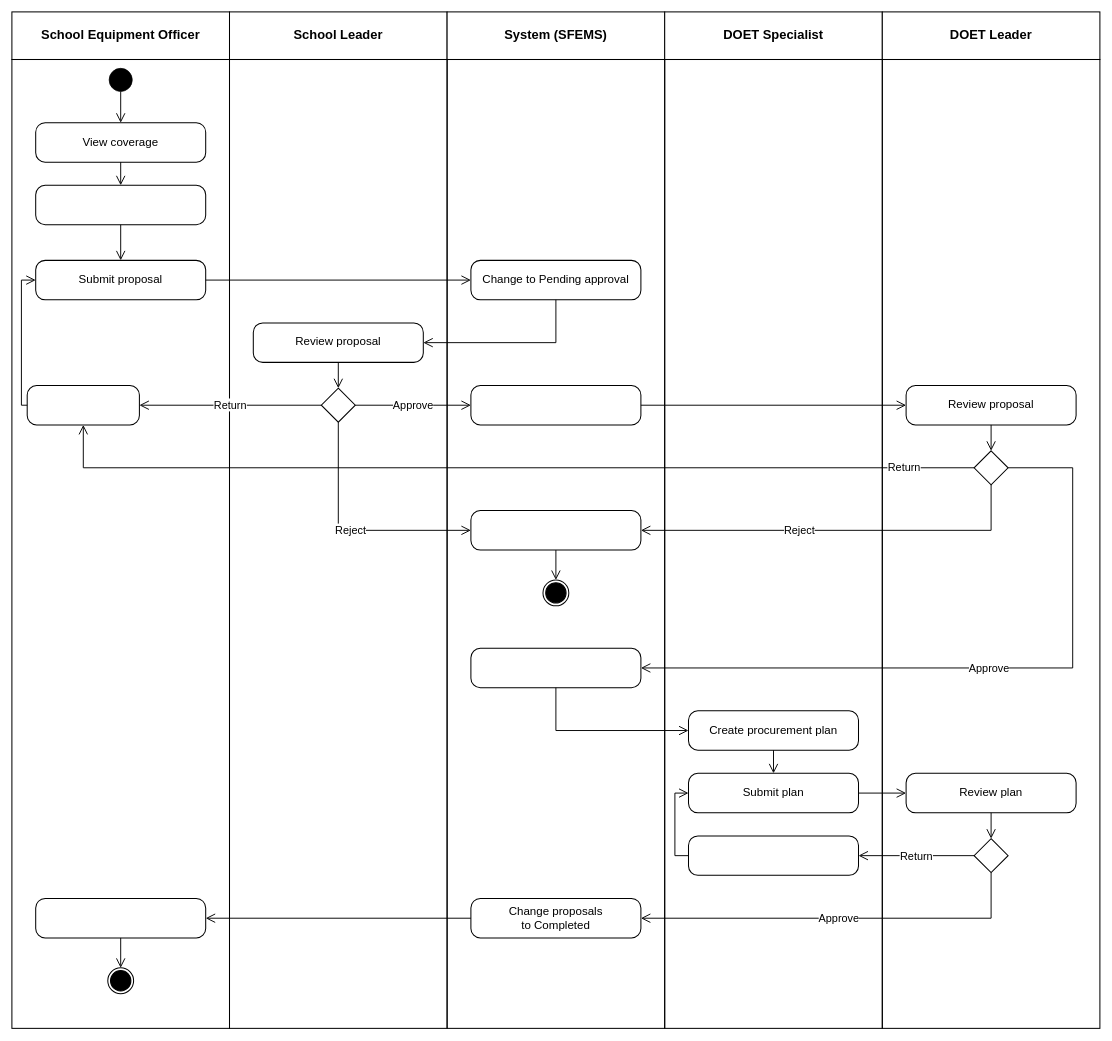
This 1112x1041 diagram has some shape labels left out. The centre of each missing label's shape, as x and y in pixels:
"Change to Approved" goes at (555,667).
"Change to Rejected" goes at (555,530).
"Create intake voucher (BF-02)" goes at (120,918).
"Create purchase proposal" goes at (120,204).
"Edit plan" goes at (773,855).
"Edit proposal" goes at (83,405).
"Move to DOET approval" goes at (555,405).
